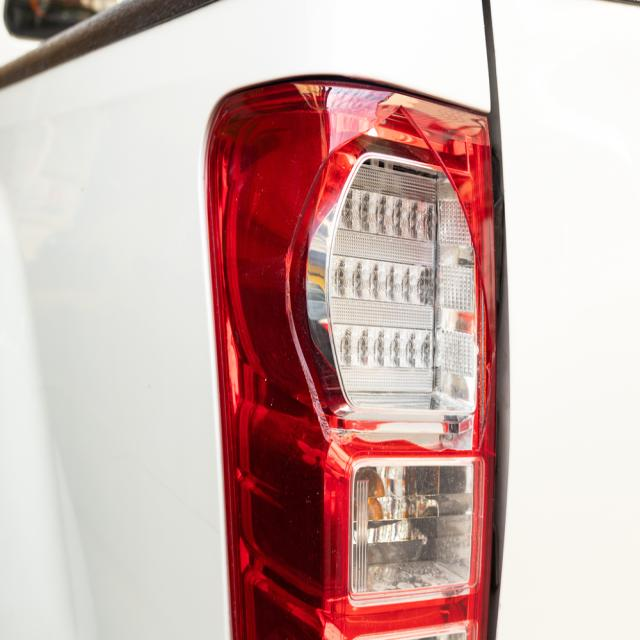lamp broken: (205, 76, 502, 640)
